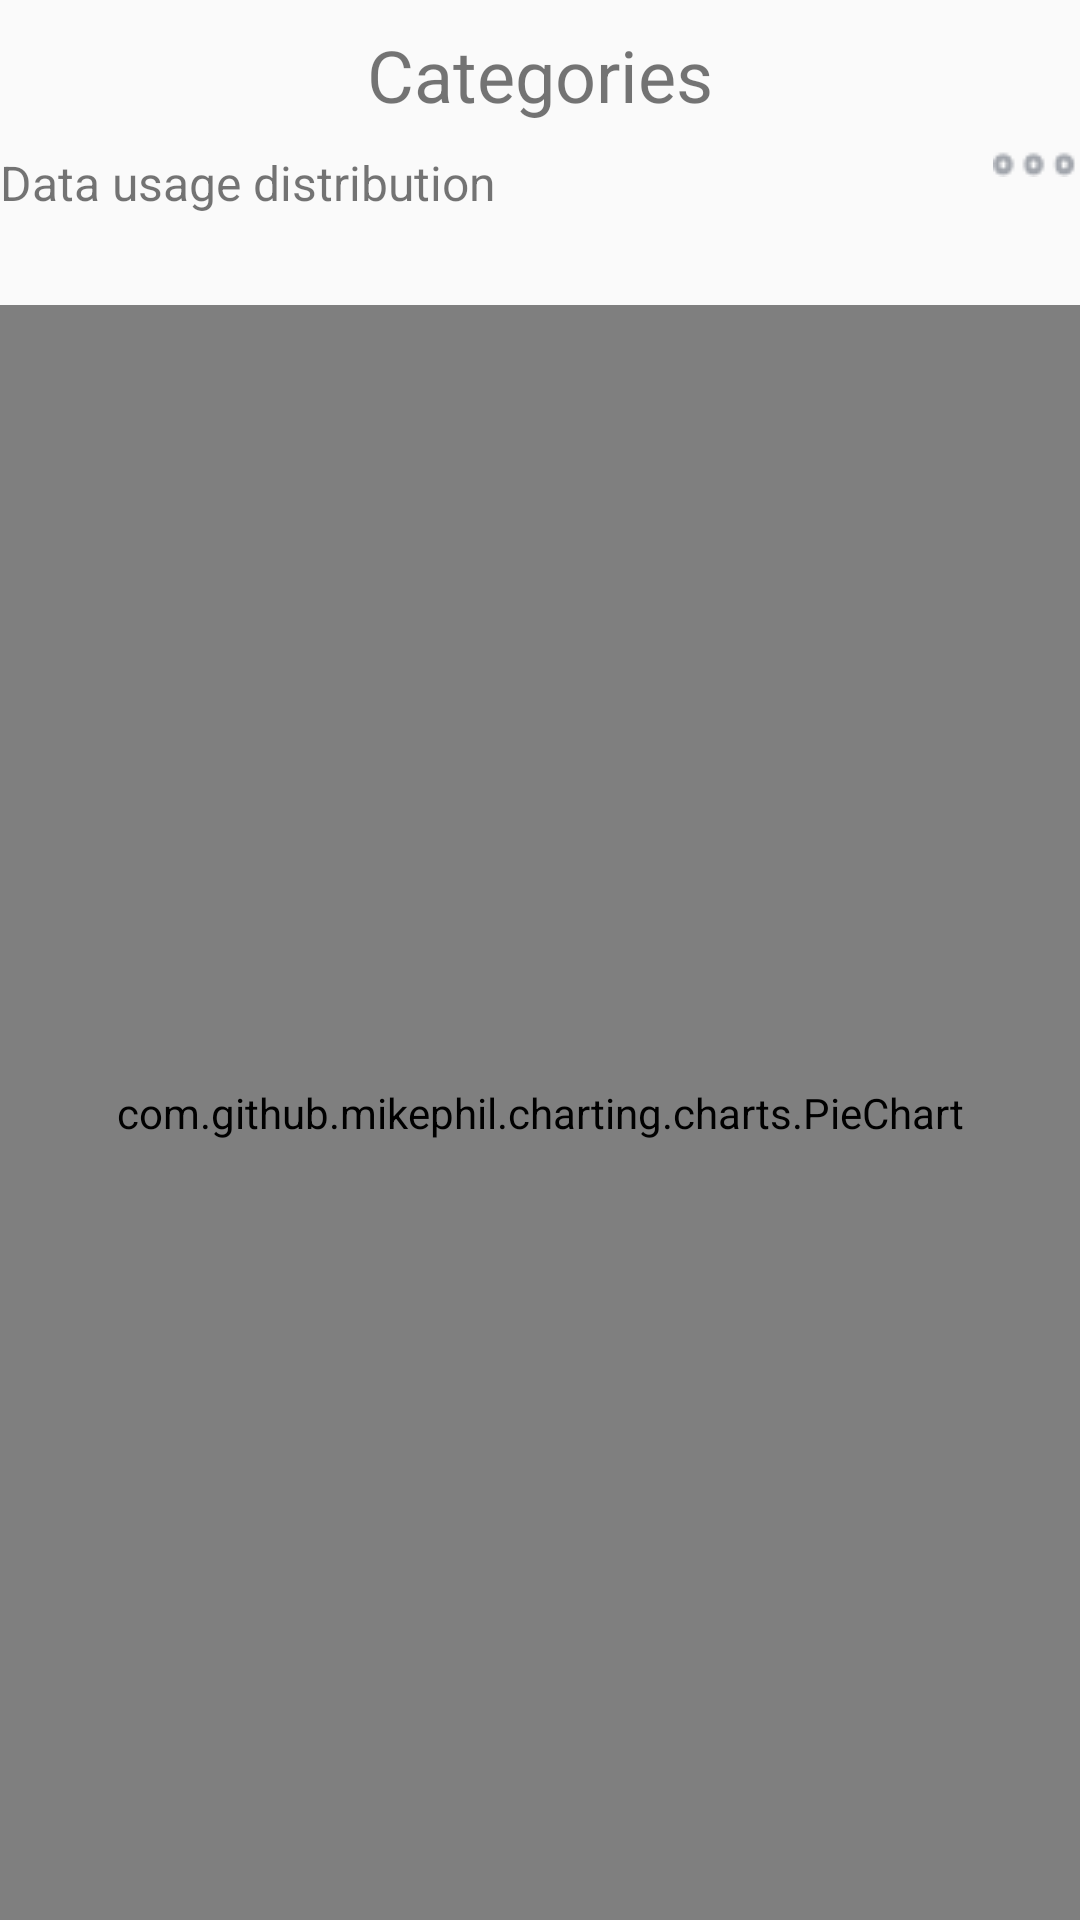

Point at icon controls on the screen. Image size 1080px×1920px, points as (x=x, y=y).
more: (x=1034, y=164)
